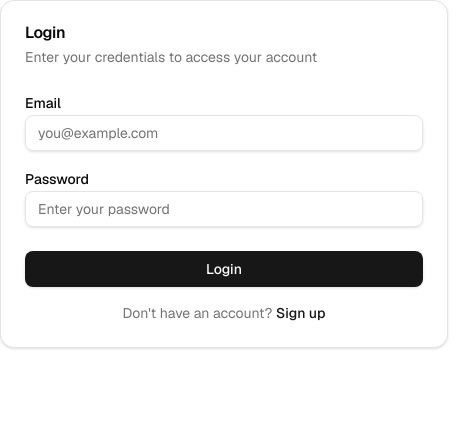
Test: LoginForm › clears field error when user starts typing
# Submit to show errors
Click the button "Login": (224, 269) x1=25 y1=251 x2=423 y2=287
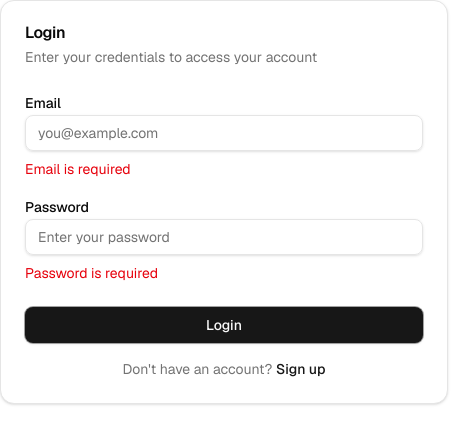
Result: the text "Email is required" is shown at x1=25 y1=160 x2=131 y2=178
# Start typing
In the field labelled "Email": (224, 133) x1=25 y1=115 x2=423 y2=151, type "t"
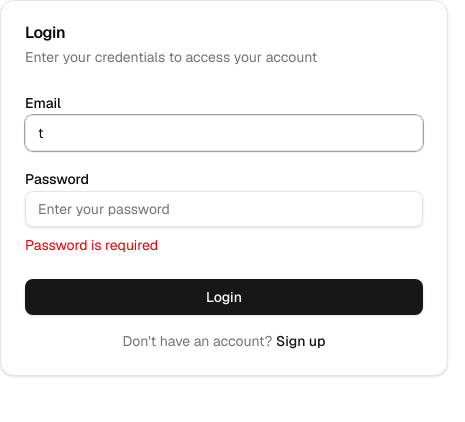
Result: the text "Email is required" is gone
